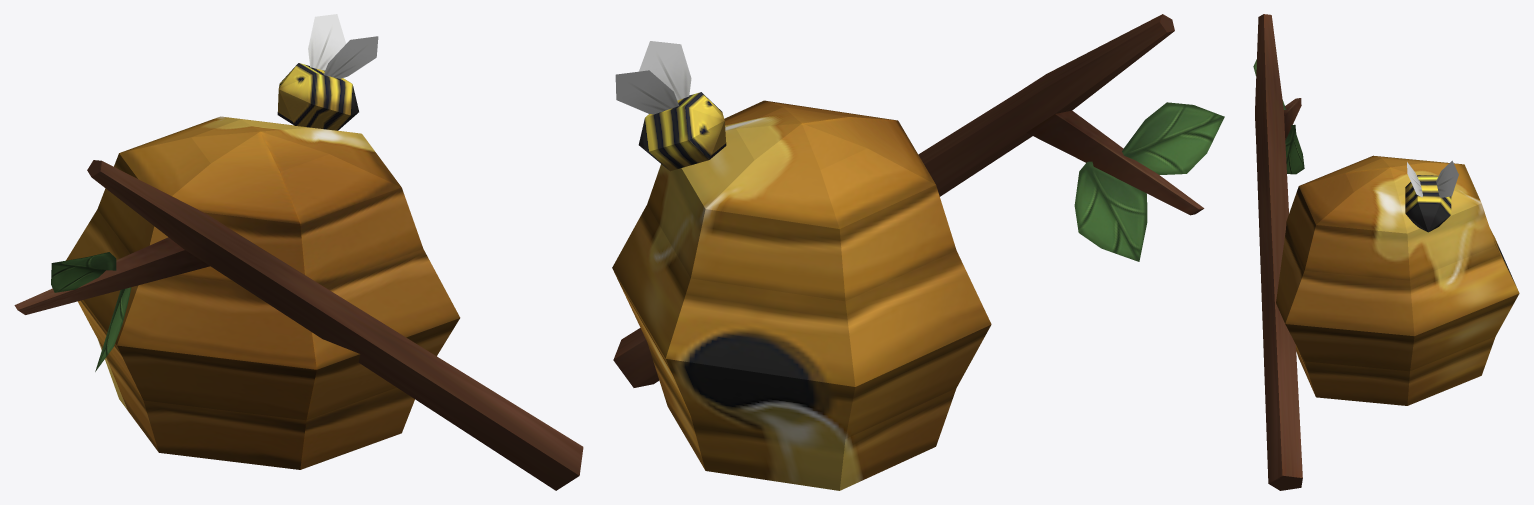
File: Bee_Hive.fbx
3 renders of one model, left to right at view 1: azimuth 30°, elevation 25°; view 2: azimuth 150°, elevation 25°; view 3: azimuth 270°, elevation 25°, orthographic. The views are drawn at different scales.
Parts seen in each view (by area): view 1: pPlane5; view 2: pPlane5; view 3: pPlane5.
Part boxes in pixels (x1=…): pPlane5: x1=14, y1=14, x2=583, y2=490; pPlane5: x1=612, y1=14, x2=1224, y2=490; pPlane5: x1=1253, y1=14, x2=1519, y2=490.
Bounding box in the file's own units: 8.58 × 6.66 × 5.06.
